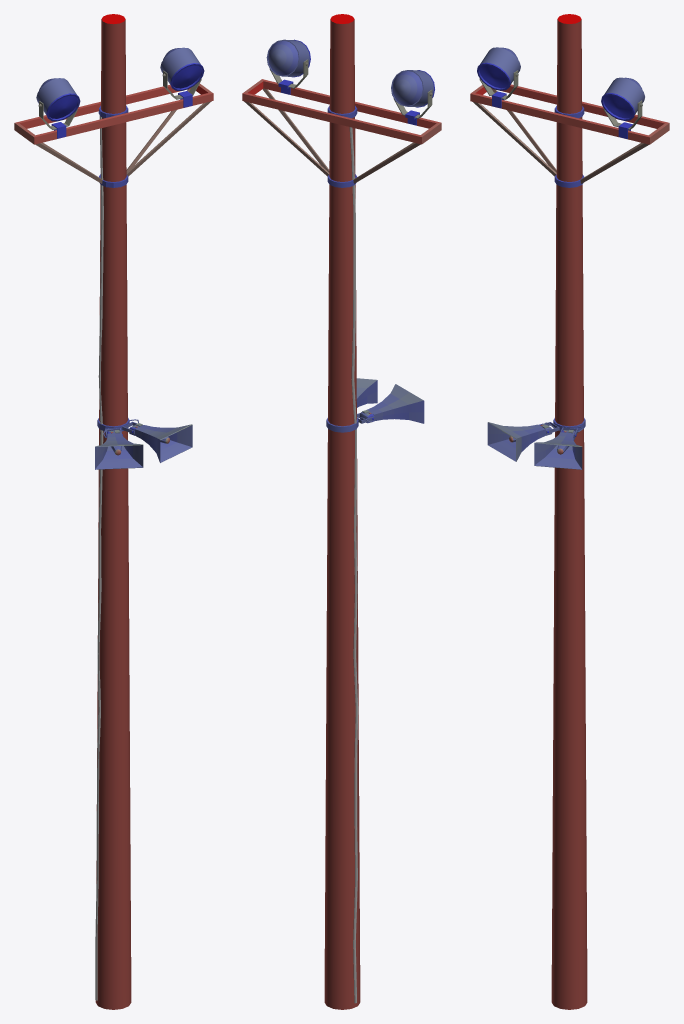
The model's file is Streetlight.fbx.
3 renders of one model, left to right at view 1: azimuth 30°, elevation 25°; view 2: azimuth 150°, elevation 25°; view 3: azimuth 330°, elevation 25°, orthographic.
Visible parts, largest first — view 1: Streetlight, Streetlight_Metal, Streetlight_Speaker, Streetlight_Lights, Streetlight_Cable; view 2: Streetlight, Streetlight_Metal, Streetlight_Cable, Streetlight_Lights, Streetlight_Speaker; view 3: Streetlight, Streetlight_Metal, Streetlight_Speaker, Streetlight_Lights.
Part boxes in pixels (x1,y1,x2,y2): Streetlight: (95, 14, 131, 1009); Streetlight_Metal: (14, 70, 213, 431); Streetlight_Speaker: (95, 419, 192, 469); Streetlight_Lights: (36, 47, 204, 121); Streetlight_Cable: (95, 115, 103, 1000); Streetlight: (324, 14, 360, 1009); Streetlight_Metal: (242, 59, 441, 432); Streetlight_Cable: (349, 127, 358, 1003); Streetlight_Lights: (266, 39, 434, 107); Streetlight_Speaker: (356, 378, 424, 423); Streetlight: (551, 14, 587, 1009); Streetlight_Metal: (470, 70, 669, 431); Streetlight_Speaker: (487, 422, 583, 469); Streetlight_Lights: (477, 47, 644, 120).
Bounding box in the file's own units: 154 × 804 × 76.57.
